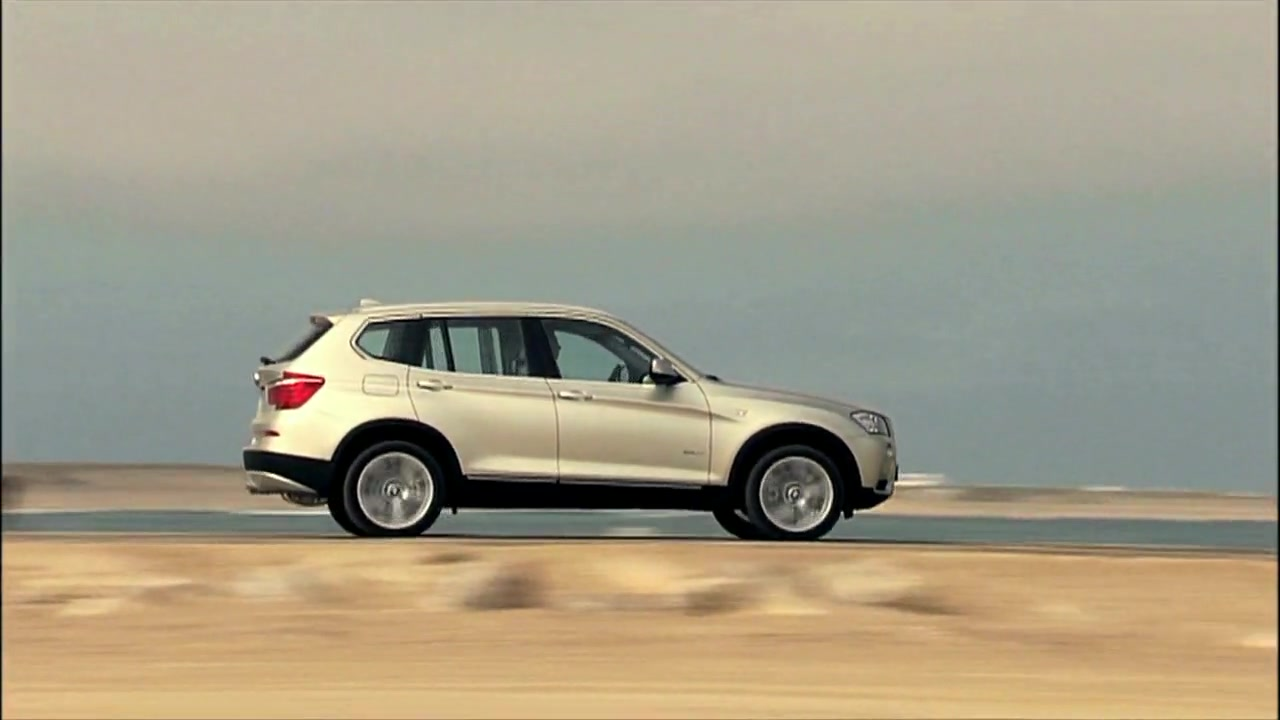car: (246, 303, 901, 537)
